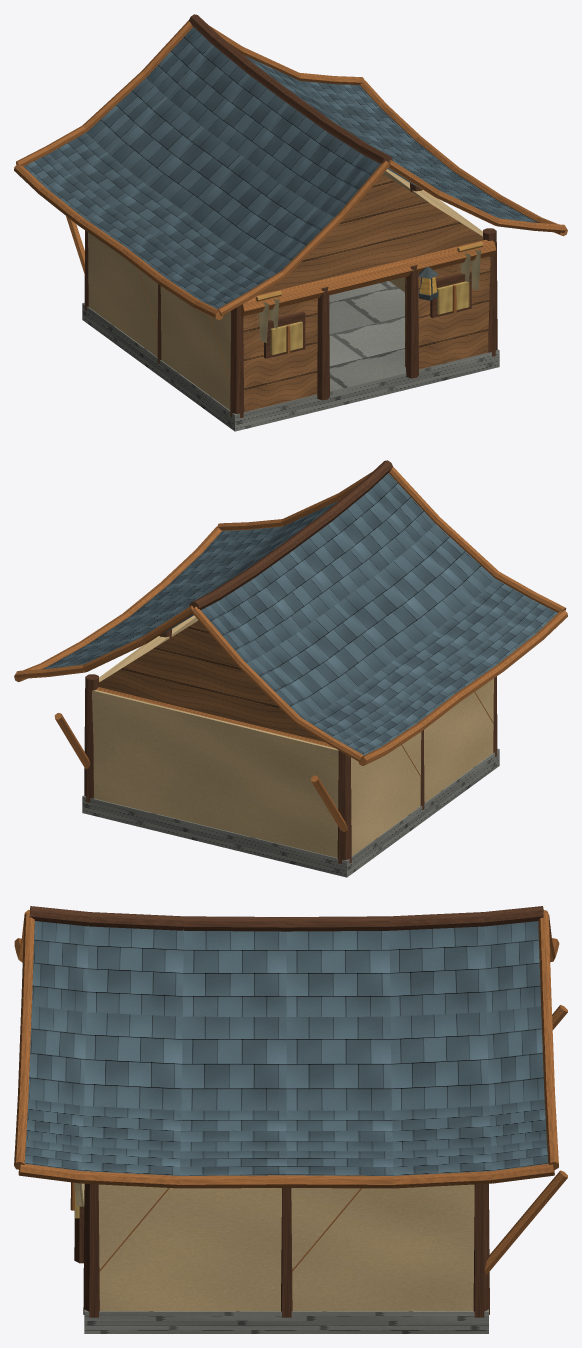
File: house_b.glb
The picture shows the model from 3 angles, top to bottom: view 1: azimuth 30°, elevation 25°; view 2: azimuth 150°, elevation 25°; view 3: azimuth 270°, elevation 25°; orthographic projection. The views are drawn at different scales.
Visible parts, largest first — view 1: house_b_F4; view 2: house_b_F4; view 3: house_b_F4.
Part boxes in pixels (<box>): house_b_F4: <box>14,14,567,431</box>; house_b_F4: <box>14,460,567,877</box>; house_b_F4: <box>14,906,567,1333</box>.
Size of the model in its own units: 8.39 by 5.88 by 8.63.
Materials: 1 (1 with a texture image).
